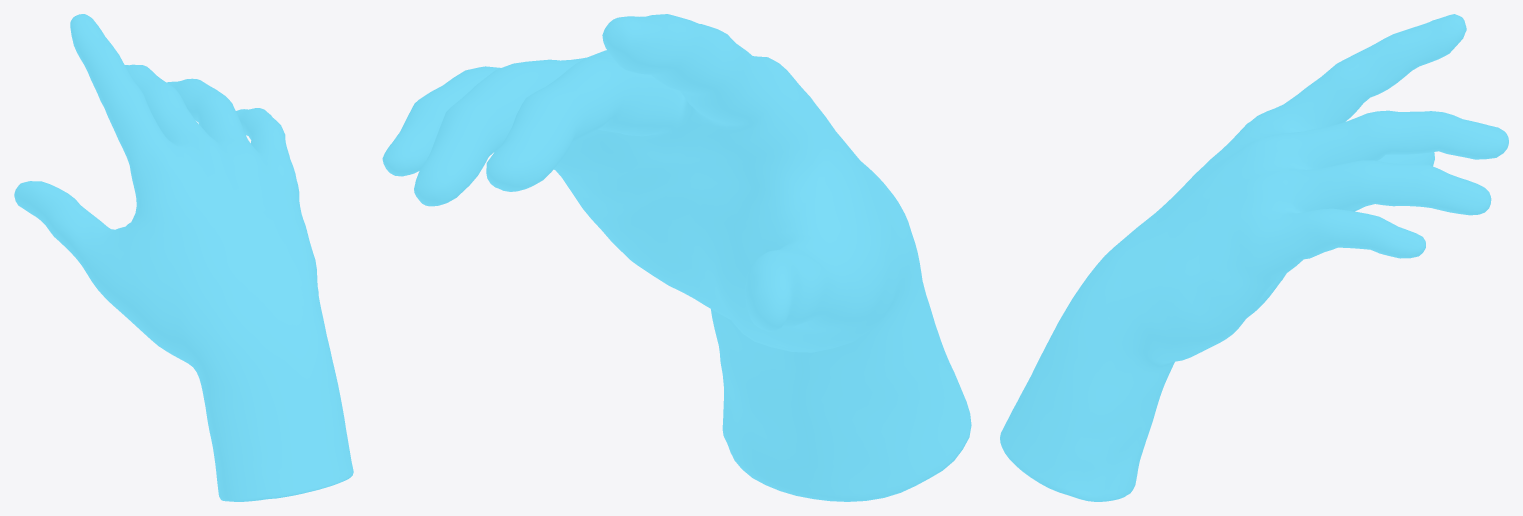
File: handnew.glb
The picture shows the model from 3 angles, left to right: view 1: azimuth 30°, elevation 25°; view 2: azimuth 150°, elevation 25°; view 3: azimuth 270°, elevation 25°; orthographic projection. The views are drawn at different scales.
Visible parts, largest first — view 1: hand_low; view 2: hand_low; view 3: hand_low.
Part boxes in pixels (bbox=[...]): hand_low: bbox=[14, 14, 353, 501]; hand_low: bbox=[382, 14, 971, 501]; hand_low: bbox=[1000, 14, 1508, 501].
Size of the model in its own units: 1 by 1.56 by 1.63.
